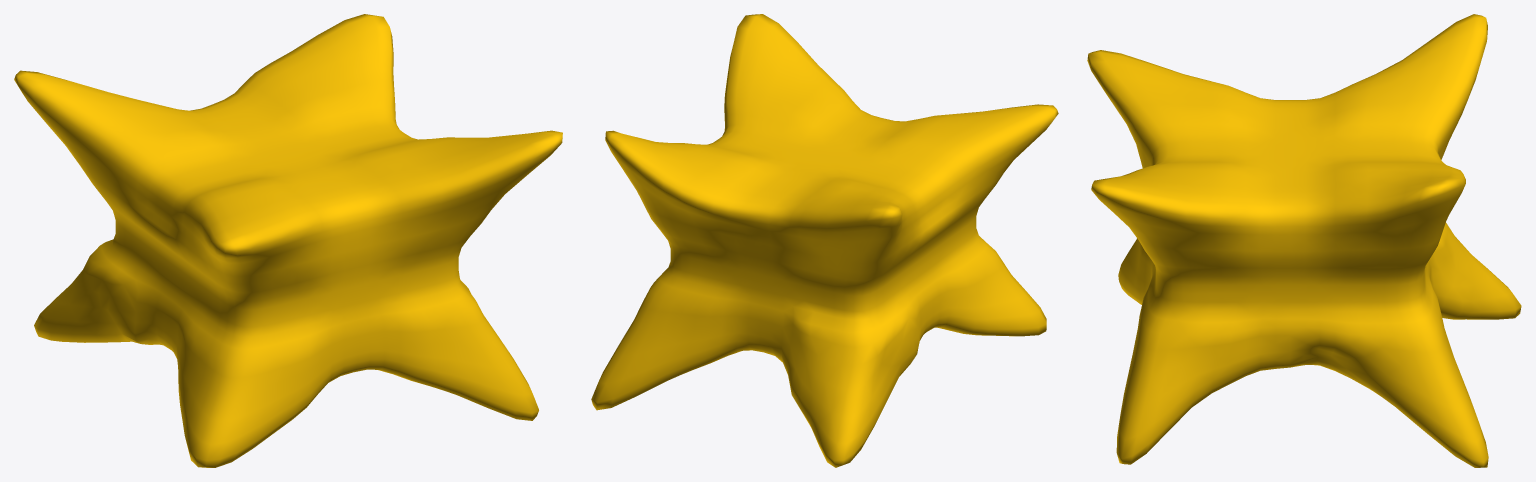
The model's file is latchingcell.fbx.
3 renders of one model, left to right at view 1: azimuth 30°, elevation 25°; view 2: azimuth 150°, elevation 25°; view 3: azimuth 270°, elevation 25°, orthographic. The views are drawn at different scales.
Parts seen in each view (by area): view 1: pCube1; view 2: pCube1; view 3: pCube1.
Boxes of the visible parts, bbox=[...] form: pCube1: bbox=[14, 14, 562, 467]; pCube1: bbox=[591, 14, 1058, 467]; pCube1: bbox=[1087, 14, 1521, 467].
Bounding box in the file's own units: 32.68 × 26.17 × 34.8.
Materials: 1 (1 with a texture image).
